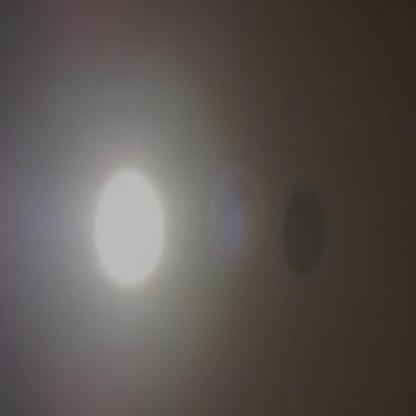light_off: (269, 157, 335, 298)
